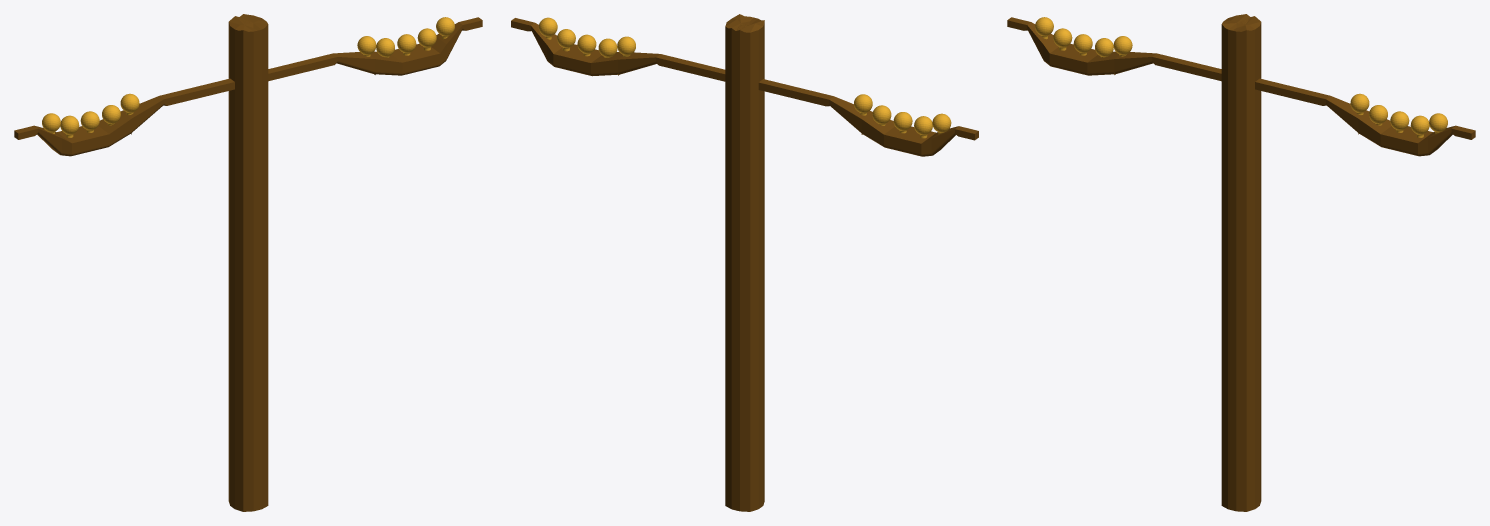
File: ФОНАРЬ2.fbx
The picture shows the model from 3 angles, left to right: view 1: azimuth 30°, elevation 25°; view 2: azimuth 150°, elevation 25°; view 3: azimuth 330°, elevation 25°; orthographic projection.
Parts seen in each view (by area): view 1: Cube, Сфера.001, Сфера.002, Сфера.004, Сфера, Сфера.003; view 2: Cube, Сфера.001, Сфера.002, Сфера, Сфера.004, Сфера.003; view 3: Cube, Сфера.001, Сфера.002, Сфера.004, Сфера, Сфера.003.
Boxes of the visible parts, <box> form: Cube: <box>14,14,482,511</box>; Сфера.001: <box>60,28,436,137</box>; Сфера.002: <box>80,34,416,132</box>; Сфера.004: <box>120,36,376,114</box>; Сфера: <box>42,17,454,133</box>; Сфера.003: <box>102,38,394,125</box>; Cube: <box>511,14,978,511</box>; Сфера.001: <box>557,29,932,138</box>; Сфера.002: <box>577,34,912,133</box>; Сфера: <box>538,17,951,134</box>; Сфера.004: <box>617,36,872,115</box>; Сфера.003: <box>598,38,891,125</box>; Cube: <box>1007,14,1475,511</box>; Сфера.001: <box>1053,28,1429,137</box>; Сфера.002: <box>1073,34,1409,132</box>; Сфера.004: <box>1113,36,1369,114</box>; Сфера: <box>1035,17,1447,133</box>; Сфера.003: <box>1095,38,1387,125</box>.
Size of what is drawn, in the model's own units: 512 by 507 by 35.22.
